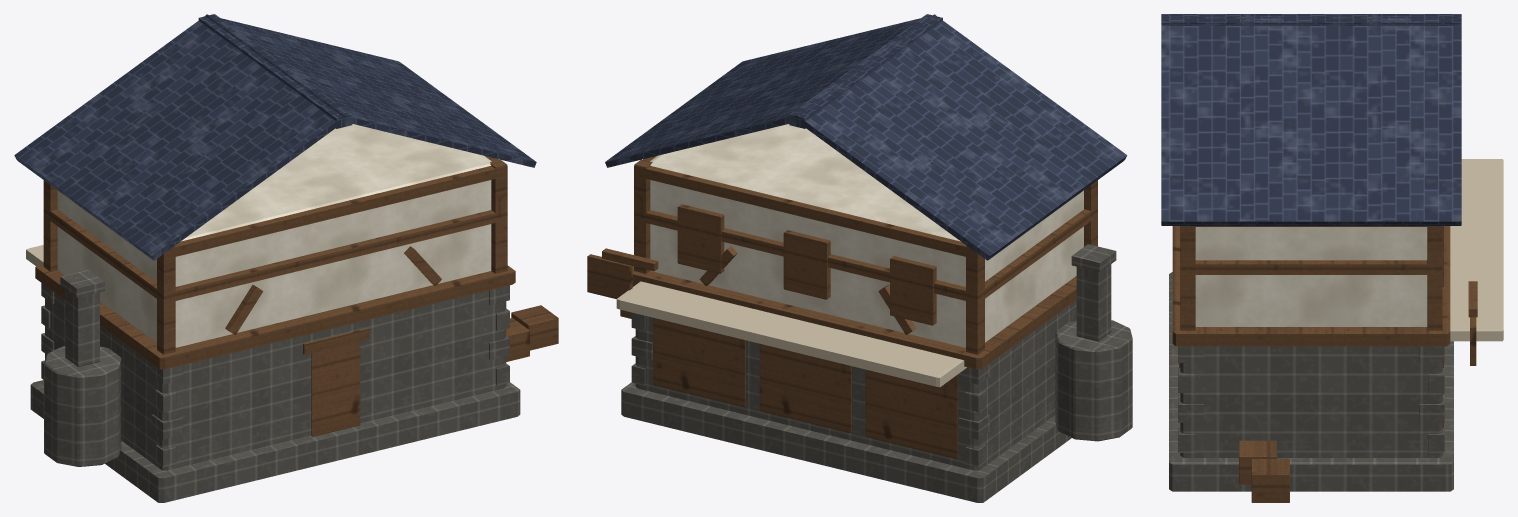
File: luxury.gltf
3 views of the same model, side by side, from view 1: azimuth 30°, elevation 25°; view 2: azimuth 150°, elevation 25°; view 3: azimuth 270°, elevation 25° (orthographic). The views are drawn at different scales.
Parts seen in each view (by area): view 1: Luxury; view 2: Luxury; view 3: Luxury.
Boxes of the visible parts, x1,y1,x2,y2 form: Luxury: (14, 14, 558, 502); Luxury: (587, 14, 1132, 502); Luxury: (1161, 14, 1503, 502).
Bounding box in the file's own units: 4.93 × 3.28 × 2.69.
Materials: 9 (7 with a texture image).
